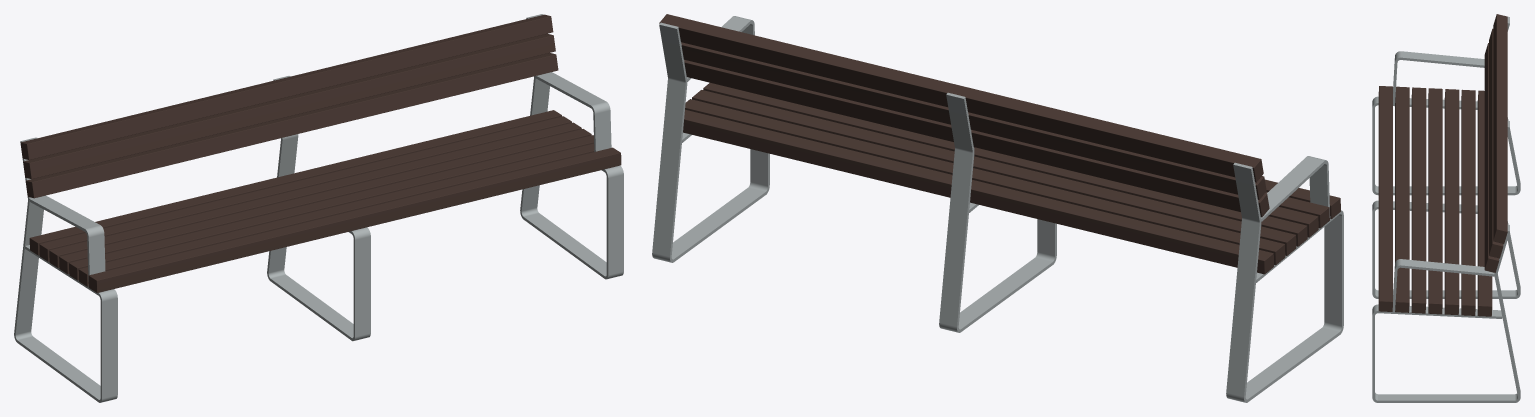
Rendered from K7_armrests.glb.
3 views of the same model, side by side, from view 1: azimuth 30°, elevation 25°; view 2: azimuth 150°, elevation 25°; view 3: azimuth 270°, elevation 25° (orthographic). The views are drawn at different scales.
Parts seen in each view (by area): view 1: K7_armrests; view 2: K7_armrests; view 3: K7_armrests.
Boxes of the visible parts, x1,y1,x2,y2 form: K7_armrests: (14, 14, 623, 402); K7_armrests: (652, 14, 1343, 402); K7_armrests: (1372, 14, 1520, 402).
Size of the model in its own units: 2 by 0.7547 by 0.5816.
